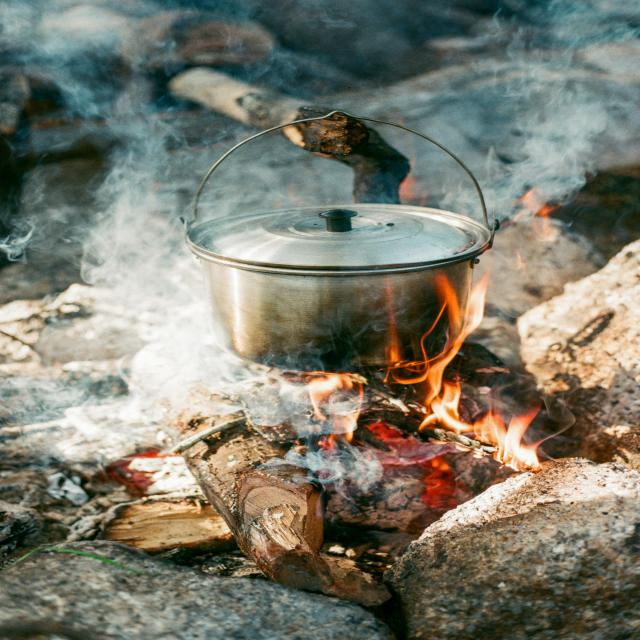smoke: (48, 42, 179, 263), (480, 36, 602, 195), (81, 270, 218, 402)
